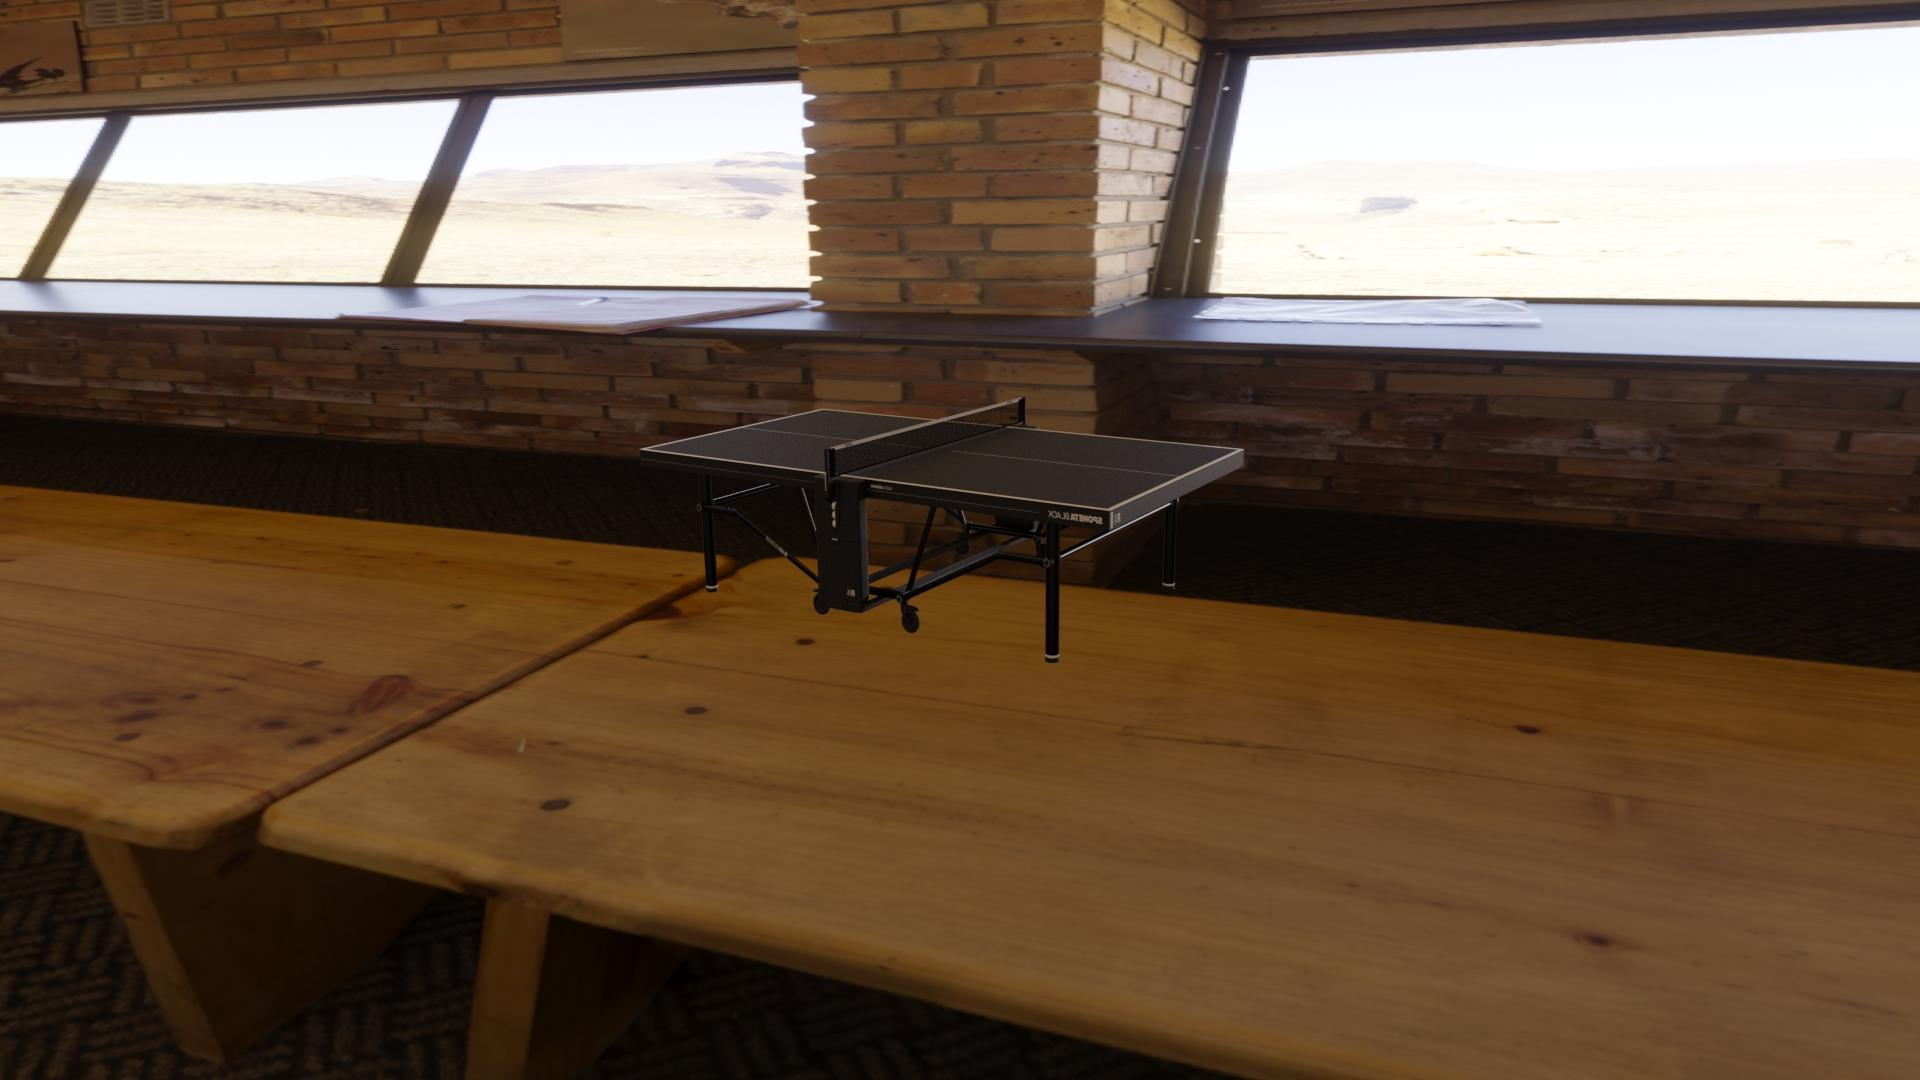table: (645, 410, 1238, 509)
